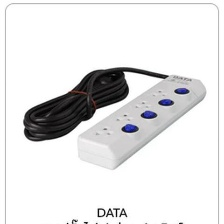three_eye_plug: (73, 70, 208, 173)
